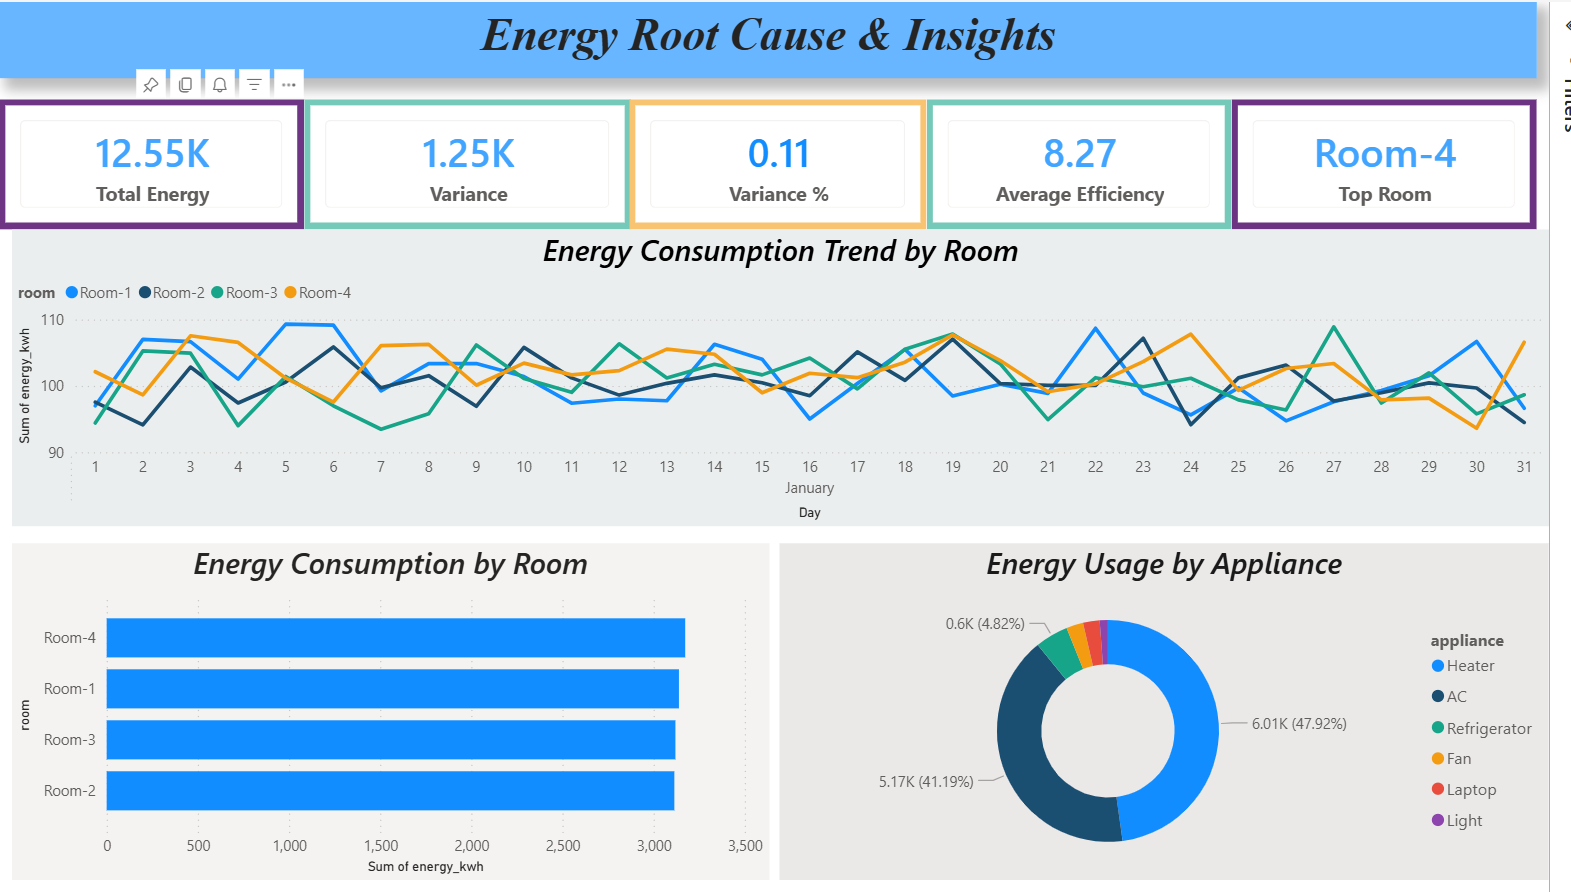

This screenshot's page, from the dashboard's own definition file:
{"tool":"powerbi","page":{"name":"Root Cause","canvas":[1280,720],"ordinal":2},"visuals":[{"type":"textbox","box":[10,0,1260.3,62.5],"z":0},{"type":"cardVisual","fields":{"Data":["final_energy_analysis.Total Energy"]},"box":[10,79.9,249.8,106.2],"z":1000},{"type":"cardVisual","fields":{"Data":["final_energy_analysis.Average Efficiency"]},"box":[770.7,79.9,249.8,106.2],"z":2000},{"type":"cardVisual","fields":{"Data":["final_energy_analysis.Top Room"]},"box":[1020.5,79.9,249.8,106.2],"z":3000},{"type":"cardVisual","fields":{"Data":["final_energy_analysis.Variance"]},"box":[259.8,79.9,267.3,106.2],"z":4000},{"type":"cardVisual","fields":{"Data":["final_energy_analysis.Variance %"]},"box":[527.1,79.9,243.6,106.2],"z":5000},{"type":"lineChart","title":"Energy Consumption Trend by Room","fields":{"Y":["Sum(final_energy_analysis.energy_kwh)"],"Category":["final_energy_analysis.timestamp.Variation.Date Hierarchy.Month","final_energy_analysis.timestamp.Variation.Date Hierarchy.Day"],"Series":["final_energy_analysis.room"]},"box":[20,186.1,1260.3,243.6],"z":6000},{"type":"clusteredBarChart","title":"Energy Consumption by Room","fields":{"Category":["final_energy_analysis.room"],"Y":["Sum(final_energy_analysis.energy_kwh)"]},"box":[20,443.4,620.8,276],"z":7000},{"type":"donutChart","title":"Energy Usage by Appliance","fields":{"Category":["final_energy_analysis.appliance"],"Y":["Sum(final_energy_analysis.energy_kwh)"]},"box":[649.5,443.4,630.8,276],"z":8000}]}

Visuals, with their boxes on the page's 1280x720 design canvas (x1, y1, x2, y2). These are canvas units, not pixel positions in the 1571x892 screenshot, which may show the page scaled, cropped or inside an application window:
textbox: Rect(10, 0, 1270, 62)
cardVisual - final_energy_analysis.Total Energy: Rect(10, 80, 260, 186)
cardVisual - final_energy_analysis.Average Efficiency: Rect(771, 80, 1020, 186)
cardVisual - final_energy_analysis.Top Room: Rect(1020, 80, 1270, 186)
cardVisual - final_energy_analysis.Variance: Rect(260, 80, 527, 186)
cardVisual - final_energy_analysis.Variance %: Rect(527, 80, 771, 186)
"Energy Consumption Trend by Room" lineChart: Rect(20, 186, 1280, 430)
"Energy Consumption by Room" clusteredBarChart: Rect(20, 443, 641, 719)
"Energy Usage by Appliance" donutChart: Rect(650, 443, 1280, 719)
